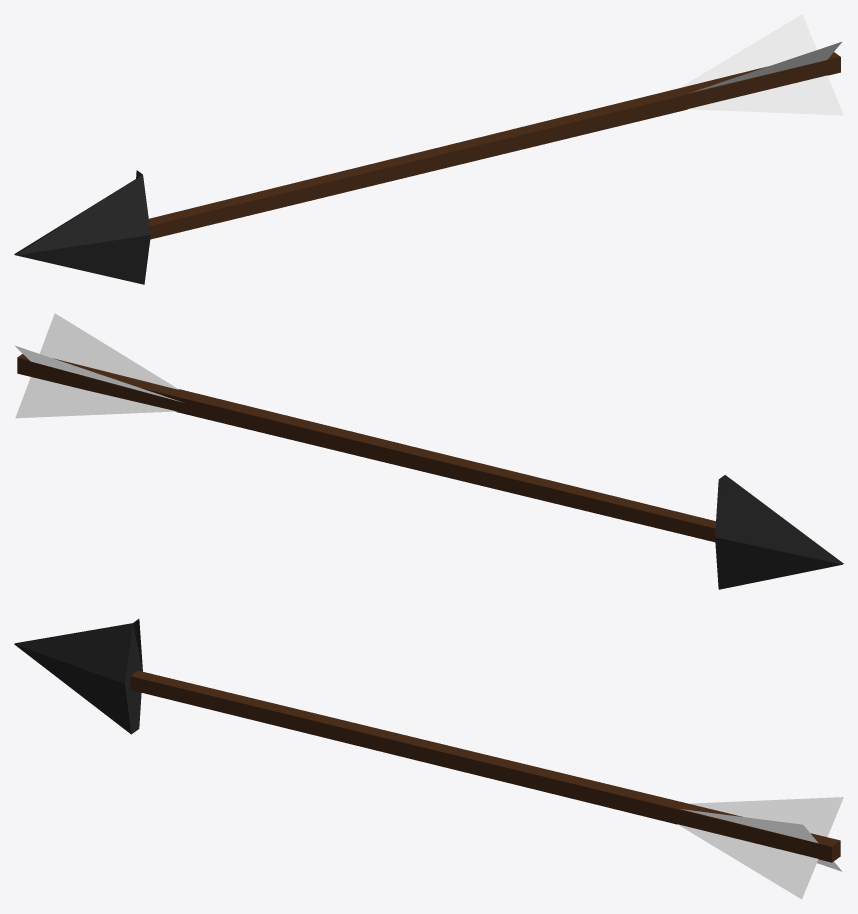
Rendered from arrow.fbx.
3 renders of one model, top to bottom at view 1: azimuth 30°, elevation 25°; view 2: azimuth 150°, elevation 25°; view 3: azimuth 330°, elevation 25°, orthographic.
Parts seen in each view (by area): view 1: Cube, Cube.001, Plane.001, Plane; view 2: Cube, Cube.001, Plane, Plane.001; view 3: Cube, Cube.001, Plane.001, Plane.
Boxes of the visible parts, <box> form: Cube: <box>149,52,840,239</box>; Cube.001: <box>14,170,150,284</box>; Plane.001: <box>679,14,843,115</box>; Plane: <box>689,42,841,93</box>; Cube: <box>17,354,715,542</box>; Cube.001: <box>715,475,843,589</box>; Plane: <box>15,313,179,418</box>; Plane.001: <box>14,345,182,402</box>; Cube: <box>130,670,840,862</box>; Cube.001: <box>14,619,142,734</box>; Plane.001: <box>677,797,843,899</box>; Plane: <box>680,809,842,871</box>.
Bounding box in the file's own units: 19.13 × 2.44 × 1.69.
